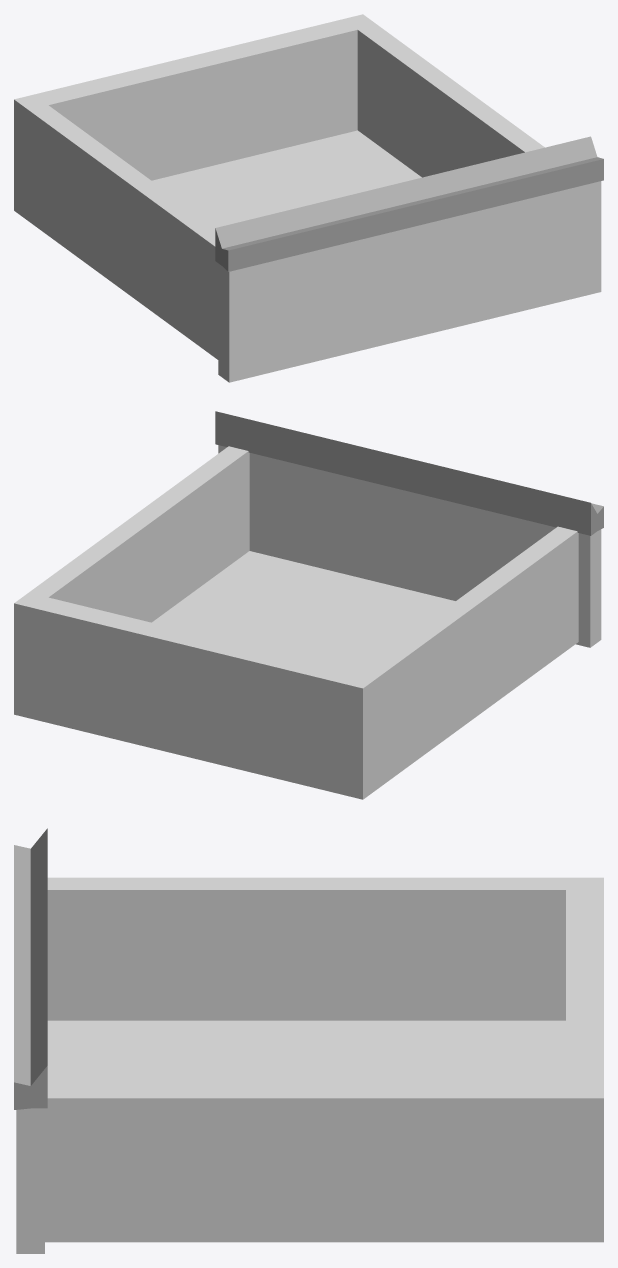
Rendered from drawer_ac.glb.
3 views of the same model, one above another, from view 1: azimuth 30°, elevation 25°; view 2: azimuth 150°, elevation 25°; view 3: azimuth 270°, elevation 25° (orthographic). The views are drawn at different scales.
Visible parts, largest first — view 1: Drawer Ac 1 (Small); view 2: Drawer Ac 1 (Small); view 3: Drawer Ac 1 (Small).
Part boxes in pixels (x1,y1,x2,y2): Drawer Ac 1 (Small): (14,14,603,382); Drawer Ac 1 (Small): (14,411,603,799); Drawer Ac 1 (Small): (14,828,603,1253).
Size of the model in its own units: 0.5611 by 0.2089 by 0.5892.
Materials: 1 (1 with a texture image).
